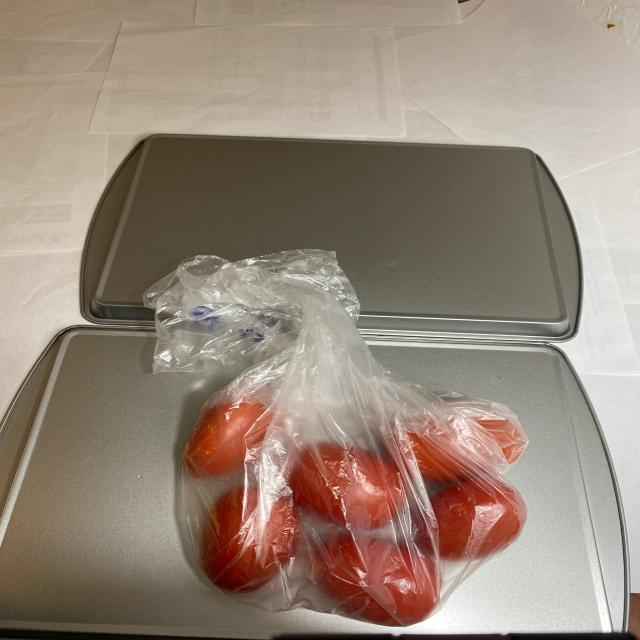tomato: (172, 383, 529, 624)
